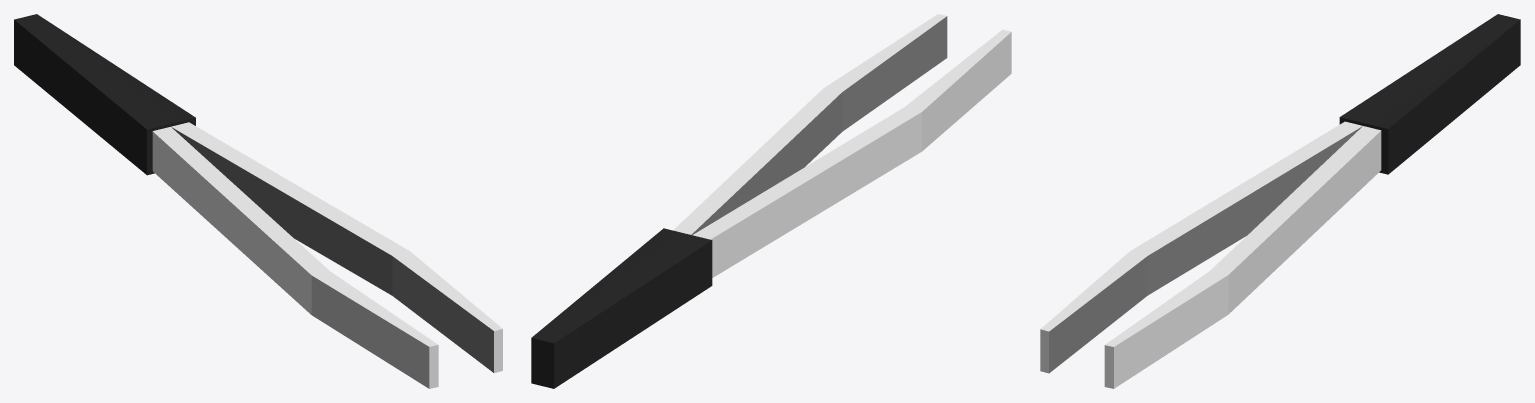
Rendered from TongsModel.fbx.
The picture shows the model from 3 angles, left to right: view 1: azimuth 30°, elevation 25°; view 2: azimuth 150°, elevation 25°; view 3: azimuth 330°, elevation 25°; orthographic projection.
Visible parts, largest first — view 1: TongsModel; view 2: TongsModel; view 3: TongsModel.
Part boxes in pixels (box(x1,y1,x2,y2)): TongsModel: box(14, 14, 502, 388); TongsModel: box(531, 14, 1011, 388); TongsModel: box(1040, 14, 1520, 388).
Size of the model in its own units: 12.84 by 5.7 by 98.74.
